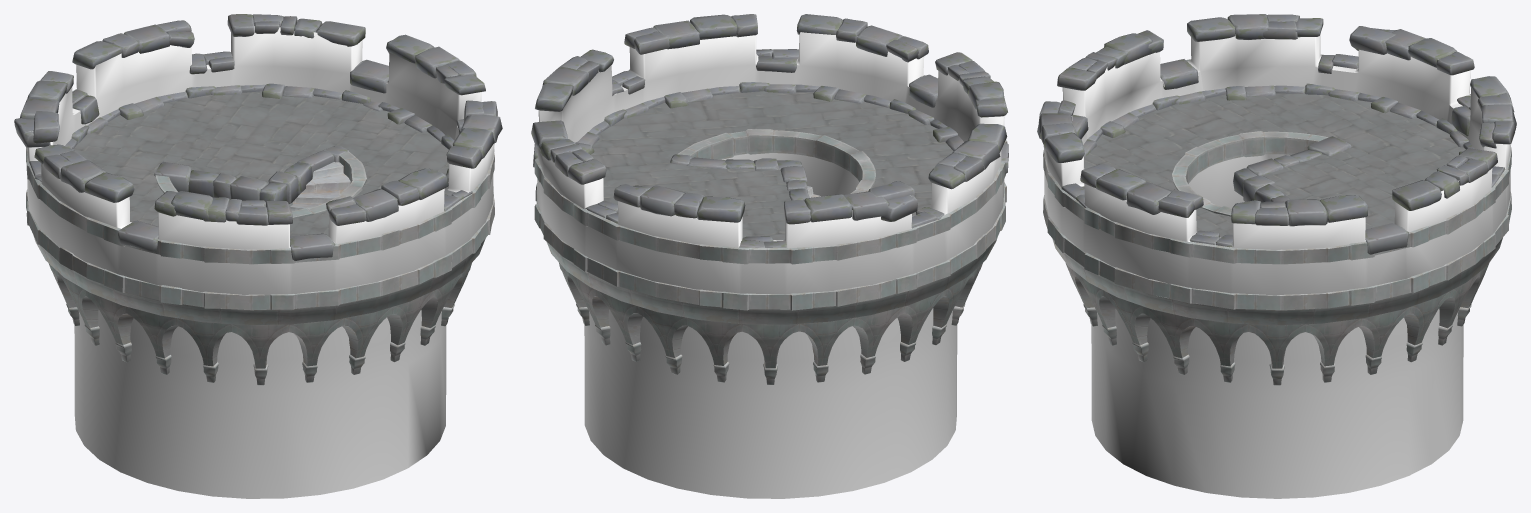
Rendered from SM_TowerA_Top_01.fbx.
3 renders of one model, left to right at view 1: azimuth 30°, elevation 25°; view 2: azimuth 150°, elevation 25°; view 3: azimuth 270°, elevation 25°, orthographic.
Visible parts, largest first — view 1: SM_TowerA_Top_01_LOD0; view 2: SM_TowerA_Top_01_LOD0; view 3: SM_TowerA_Top_01_LOD0.
Part boxes in pixels (x1,y1,x2,y2): SM_TowerA_Top_01_LOD0: [14, 14, 502, 498]; SM_TowerA_Top_01_LOD0: [531, 14, 1008, 498]; SM_TowerA_Top_01_LOD0: [1037, 14, 1516, 498].
Size of what is drawn, in the model's own units: 10.31 by 7.38 by 10.33.
